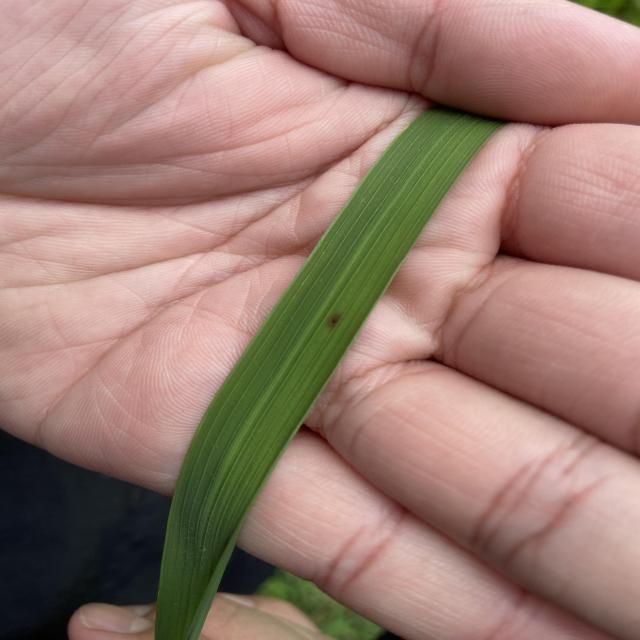Dao on: (327, 313, 341, 328)
